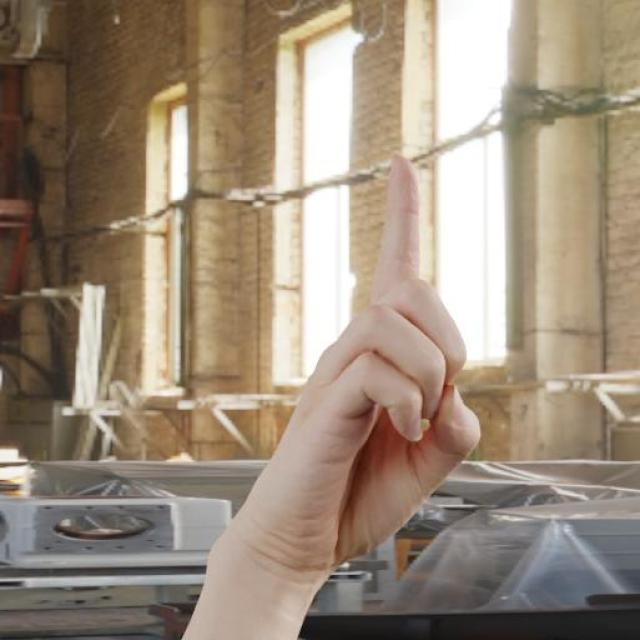D: (268, 141, 491, 585)
